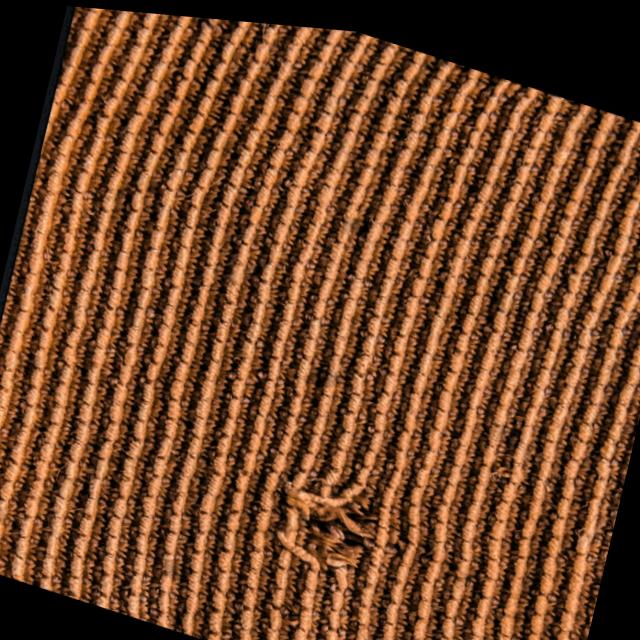Hole: (240, 438, 410, 604)
